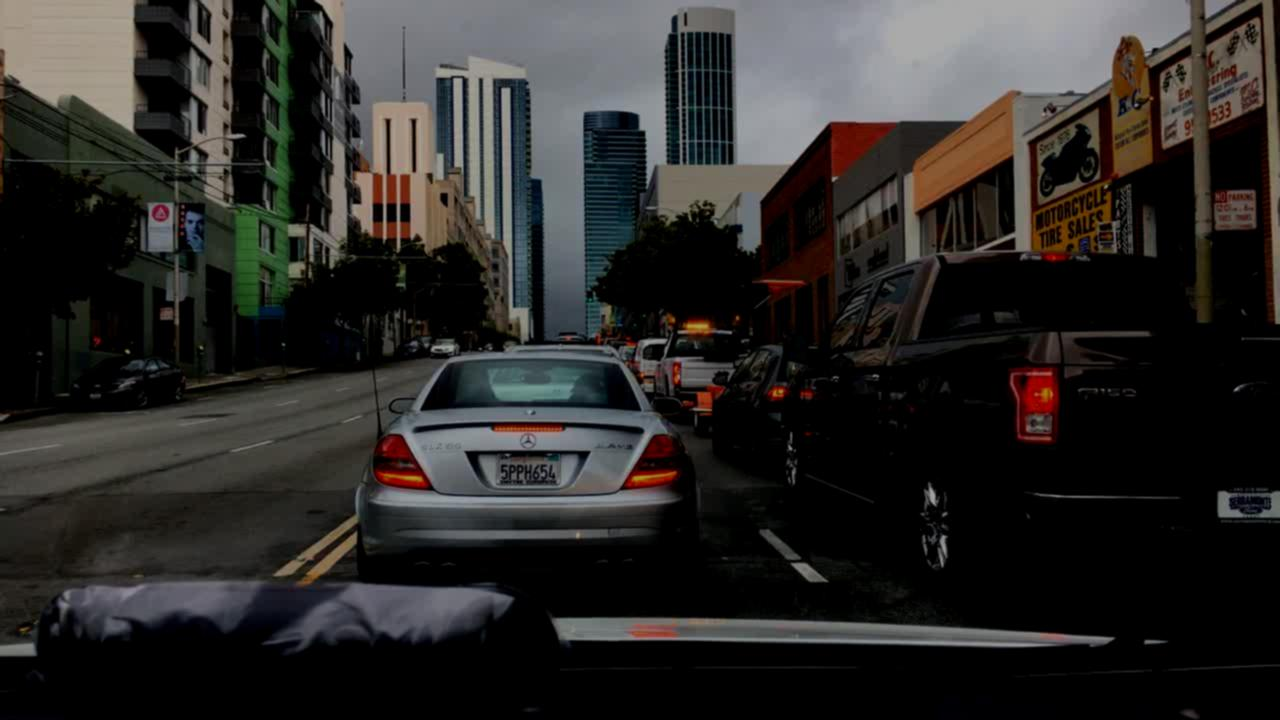Mercedes: (514, 428, 548, 451)
ford: (1215, 370, 1280, 405)
